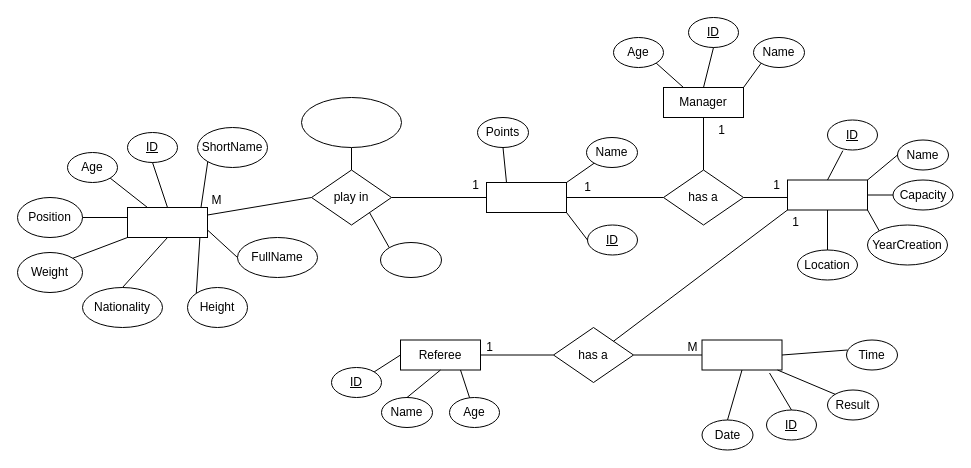
Image size: 971x468. Some labels were removed from this diagram. Here are the shapes that lost their labels. From the top down, the centre of each, then its label:
At (351,122): "RosterCategory".
At (526,197): "Team".
At (827,194): "Stadium".
At (167,222): "Player".
At (411,260): "number".
At (741,354): "Game".
